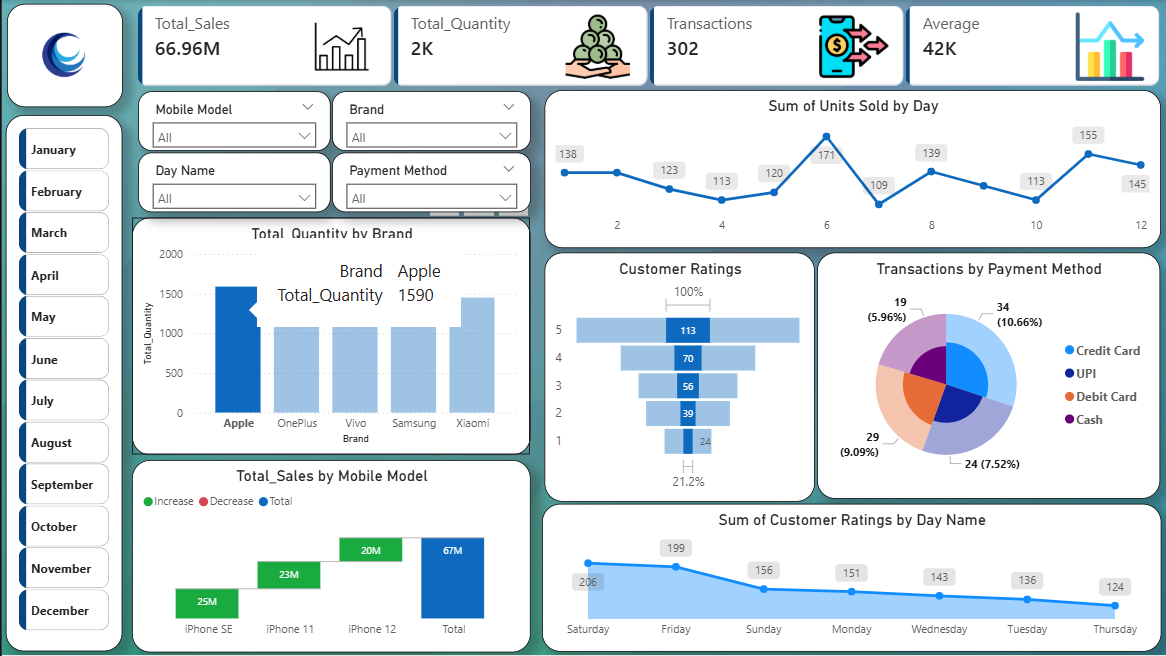

The dashboard page shown, as its layout file describes it:
{"tool":"powerbi","page":{"name":"Page 1","canvas":[1280,720],"ordinal":0},"visuals":[{"type":"shape","box":[5,3.8,127.5,113.8],"z":0},{"type":"image","box":[13.8,11.2,108.8,98.8],"z":1000},{"type":"shape","box":[4.7,126.6,128.1,589.1],"z":2000},{"type":"advancedSlicerVisual","fields":{"Values":["Sheet1.Date.Variation.Date Hierarchy.Month"]},"box":[14.1,135.9,109.4,571.9],"z":3000},{"type":"cardVisual","fields":{"Data":["Mobile_Sales_Data.Total_Sales","Mobile_Sales_Data.Total_Quantity","Mobile_Sales_Data.Transactions","Mobile_Sales_Data.Average"]},"box":[142.7,0,1137.6,100.2],"z":4000},{"type":"clusteredColumnChart","fields":{"Y":["Mobile_Sales_Data.Total_Quantity"],"Category":["Mobile_Sales_Data.Brand"]},"box":[142.2,239.1,437.5,260.9],"z":5000},{"type":"lineChart","fields":{"Y":["Sum(Mobile_Sales_Data.Units Sold)"],"Category":["Mobile_Sales_Data.Date.Variation.Date Hierarchy.Month","Mobile_Sales_Data.Date.Variation.Date Hierarchy.Day"]},"box":[595.3,98.4,676.6,173.4],"z":6000},{"type":"waterfallChart","fields":{"Category":["Mobile_Sales_Data.Mobile Model"],"Y":["Mobile_Sales_Data.Total_Sales"]},"box":[142.2,504.7,437.5,210.9],"z":7000},{"type":"pieChart","fields":{"Y":["Mobile_Sales_Data.Transactions"],"Category":["Mobile_Sales_Data.Payment Method"]},"box":[895.3,276.6,376.6,270.3],"z":8000},{"type":"funnel","title":"Customer Ratings","fields":{"Category":["Mobile_Sales_Data.Customer Ratings"],"Y":["CountNonNull(Mobile_Sales_Data.Customer Ratings)"]},"box":[595.3,276.6,296.9,273.4],"z":9000},{"type":"areaChart","fields":{"Category":["Mobile_Sales_Data.Day Name"],"Y":["Sum(Mobile_Sales_Data.Customer Ratings)"]},"box":[592.2,553.1,679.7,162.5],"z":10000},{"type":"slicer","fields":{"Values":["Mobile_Sales_Data.Mobile Model"]},"box":[150,100,210.9,65.6],"z":11000},{"type":"slicer","fields":{"Values":["Mobile_Sales_Data.Brand"]},"box":[362.5,100,218.8,65.6],"z":12000},{"type":"slicer","fields":{"Values":["Mobile_Sales_Data.Day Name"]},"box":[150,167.2,210.9,65.6],"z":13000},{"type":"slicer","fields":{"Values":["Mobile_Sales_Data.Payment Method"]},"box":[362.5,167.2,218.8,65.6],"z":14000}]}

Visuals, with their boxes in screenshot pixels (x1, y1, x2, y2), scaled from the page's 1280x720 canvas onto the 1166x656 screenshot:
shape: box=[5, 3, 121, 107]
image: box=[13, 10, 112, 100]
shape: box=[4, 115, 121, 652]
advancedSlicerVisual - Sheet1.Date.Variation.Date Hierarchy.Month: box=[13, 124, 113, 645]
cardVisual - Mobile_Sales_Data.Total_Sales x Mobile_Sales_Data.Total_Quantity: box=[130, 0, 1165, 91]
clusteredColumnChart - Mobile_Sales_Data.Total_Quantity x Mobile_Sales_Data.Brand: box=[130, 218, 528, 456]
lineChart - Sum(Mobile_Sales_Data.Units Sold) x Mobile_Sales_Data.Date.Variation.Date Hierarchy.Month: box=[542, 90, 1159, 248]
waterfallChart - Mobile_Sales_Data.Mobile Model x Mobile_Sales_Data.Total_Sales: box=[130, 460, 528, 652]
pieChart - Mobile_Sales_Data.Transactions x Mobile_Sales_Data.Payment Method: box=[816, 252, 1159, 498]
"Customer Ratings" funnel: box=[542, 252, 813, 501]
areaChart - Mobile_Sales_Data.Day Name x Sum(Mobile_Sales_Data.Customer Ratings): box=[539, 504, 1159, 652]
slicer - Mobile_Sales_Data.Mobile Model: box=[137, 91, 329, 151]
slicer - Mobile_Sales_Data.Brand: box=[330, 91, 530, 151]
slicer - Mobile_Sales_Data.Day Name: box=[137, 152, 329, 212]
slicer - Mobile_Sales_Data.Payment Method: box=[330, 152, 530, 212]
